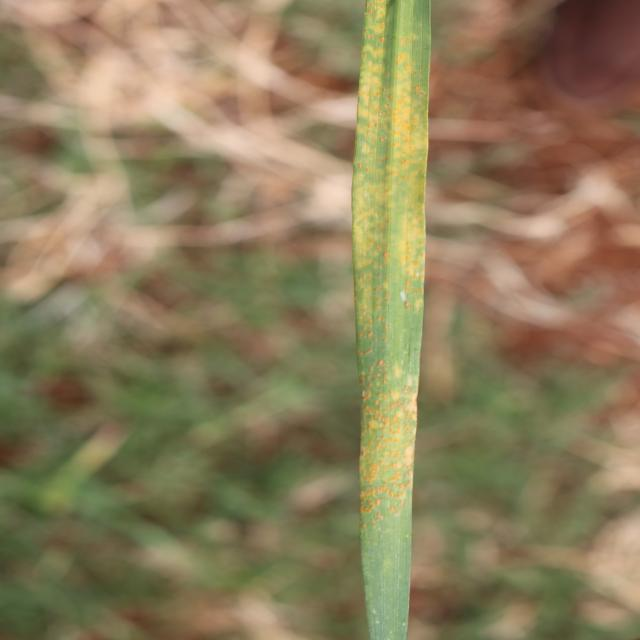Stripe Rust: (355, 0, 421, 286), (368, 364, 416, 530)
